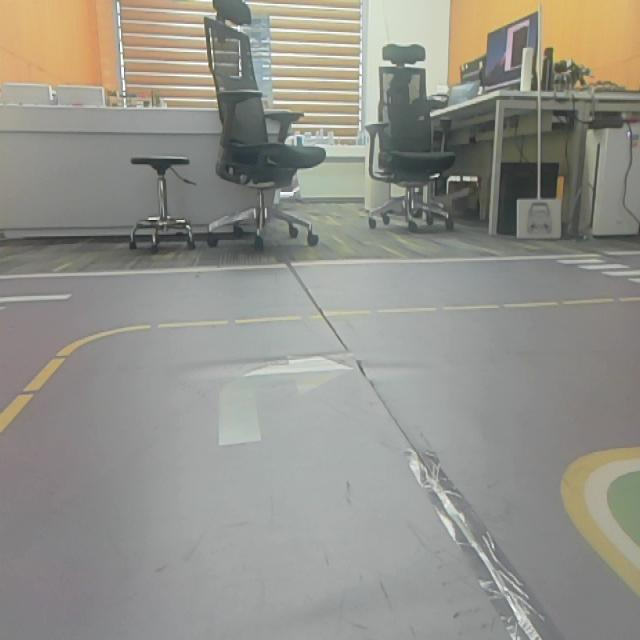left_lane: (0, 344, 75, 435)
right_lane: (560, 467, 640, 594)
